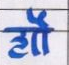ai_matra: (27, 9, 53, 28)
